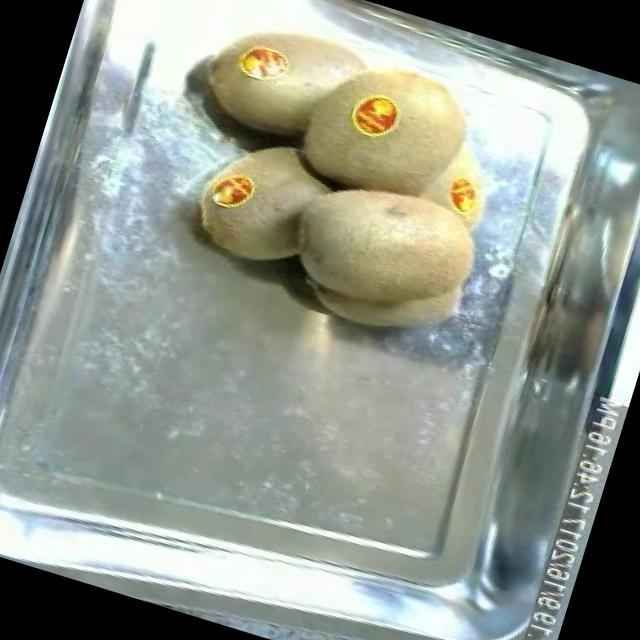Fruit: (263, 146, 506, 370), (175, 111, 344, 287), (341, 78, 412, 150)
